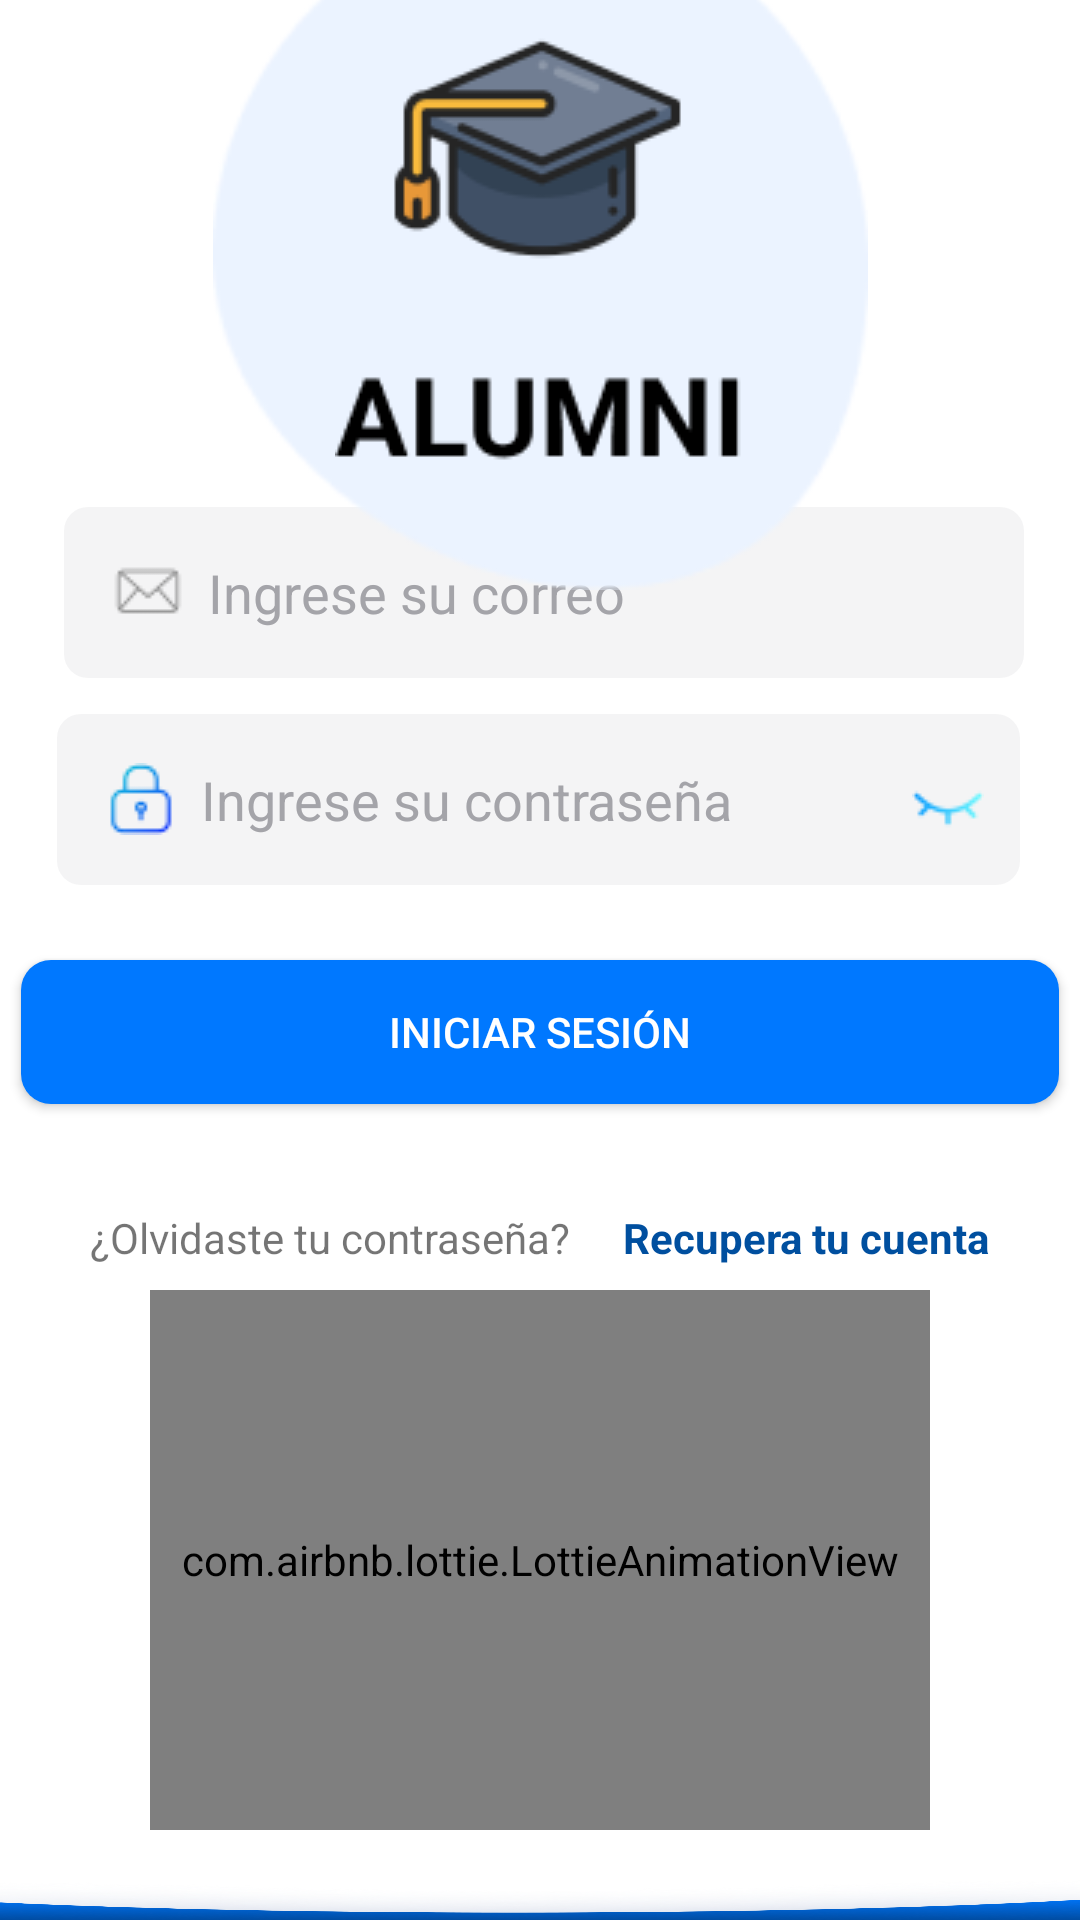

Named icons in this screenshot (1080×1920) and their bounding boxes, (x1, y1, x2, y2):
eye close: (912, 792, 982, 825)
